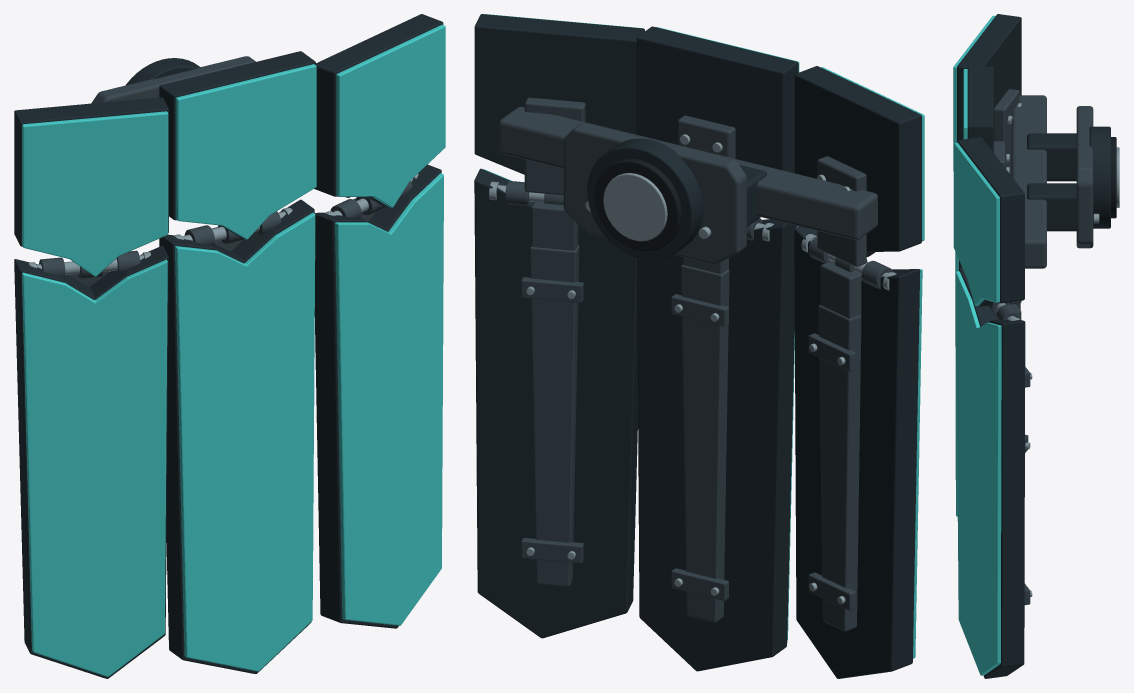
Rendered from warden-cyan-shoulder-v1.glb.
3 renders of one model, left to right at view 1: azimuth 30°, elevation 25°; view 2: azimuth 150°, elevation 25°; view 3: azimuth 270°, elevation 25°, orthographic. The views are drawn at different scales.
Visible parts, largest first — view 1: MIDDLE_BLADE_cyan_face, OUTER_BLADE_cyan_face, INNER_BLADE_cyan_face, OUTER_CAP_cyan_face, MIDDLE_CAP_cyan_face, INNER_CAP_cyan_face, INNER_BLADE_graphite_shell, MIDDLE_BLADE_graphite_shell, OUTER_BLADE_graphite_shell, INNER_CAP_shell, MIDDLE_CAP_shell, OUTER_CAP_shell (+2 smaller); view 2: INNER_BLADE_graphite_shell, MIDDLE_BLADE_graphite_shell, OUTER_BLADE_graphite_shell, INNER_CAP_shell, MIDDLE_CAP_shell, OUTER_CAP_shell, MIDDLE_BLADE_rear_spine, INNER_BLADE_rear_spine, OUTER_BLADE_rear_spine, SHOULDER_bridge, SHOULDER_saddle_plate, SHOULDER_socket_housing (+15 smaller); view 3: INNER_BLADE_cyan_face, INNER_BLADE_graphite_shell, INNER_CAP_cyan_face, INNER_CAP_shell, SHOULDER_bridge, OUTER_CAP_shell, SHOULDER_saddle_plate, MIDDLE_CAP_shell, SHOULDER_socket_housing, SHOULDER_bridge_link_-1, SHOULDER_bridge_link_1, OUTER_CAP_rear_leaf (+5 smaller).
Part boxes in pixels (x1,y1,x2,y2): MIDDLE_BLADE_cyan_face: [175, 212, 315, 671]; OUTER_BLADE_cyan_face: [22, 259, 167, 676]; INNER_BLADE_cyan_face: [335, 173, 443, 625]; OUTER_CAP_cyan_face: [22, 111, 168, 276]; MIDDLE_CAP_cyan_face: [175, 64, 316, 239]; INNER_CAP_cyan_face: [336, 24, 445, 207]; INNER_BLADE_graphite_shell: [314, 164, 441, 628]; MIDDLE_BLADE_graphite_shell: [159, 199, 314, 673]; OUTER_BLADE_graphite_shell: [14, 245, 168, 678]; INNER_CAP_shell: [314, 14, 443, 207]; MIDDLE_CAP_shell: [159, 51, 315, 238]; OUTER_CAP_shell: [14, 97, 168, 246]; INNER_BLADE_graphite_shell: [474, 168, 637, 638]; MIDDLE_BLADE_graphite_shell: [637, 219, 796, 671]; OUTER_BLADE_graphite_shell: [794, 226, 920, 678]; INNER_CAP_shell: [474, 14, 644, 174]; MIDDLE_CAP_shell: [636, 26, 798, 173]; OUTER_CAP_shell: [794, 66, 921, 256]; MIDDLE_BLADE_rear_spine: [681, 264, 729, 622]; INNER_BLADE_rear_spine: [530, 245, 579, 586]; OUTER_BLADE_rear_spine: [818, 304, 861, 631]; SHOULDER_bridge: [499, 106, 877, 239]; SHOULDER_saddle_plate: [563, 123, 746, 264]; SHOULDER_socket_housing: [587, 138, 703, 260]; INNER_BLADE_cyan_face: [955, 271, 1001, 675]; INNER_BLADE_graphite_shell: [959, 267, 1025, 678]; INNER_CAP_cyan_face: [953, 142, 999, 306]; INNER_CAP_shell: [957, 137, 1024, 306]; SHOULDER_bridge: [1011, 95, 1046, 268]; OUTER_CAP_shell: [957, 14, 1021, 142]; SHOULDER_saddle_plate: [1076, 106, 1093, 248]; MIDDLE_CAP_shell: [967, 66, 993, 152]; SHOULDER_socket_housing: [1089, 126, 1110, 228]; SHOULDER_bridge_link_-1: [1027, 133, 1076, 181]; SHOULDER_bridge_link_1: [1027, 183, 1076, 231]; OUTER_CAP_rear_leaf: [994, 89, 1019, 174].
Bounding box in the file's own units: 0.8938 × 1.21 × 0.3515.
